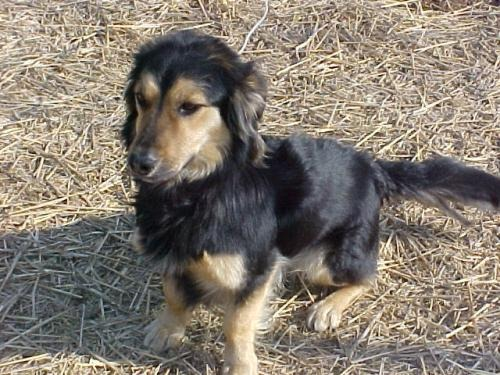dog: (97, 28, 498, 360)
